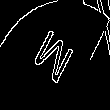M_SW: (31, 21, 79, 89)
